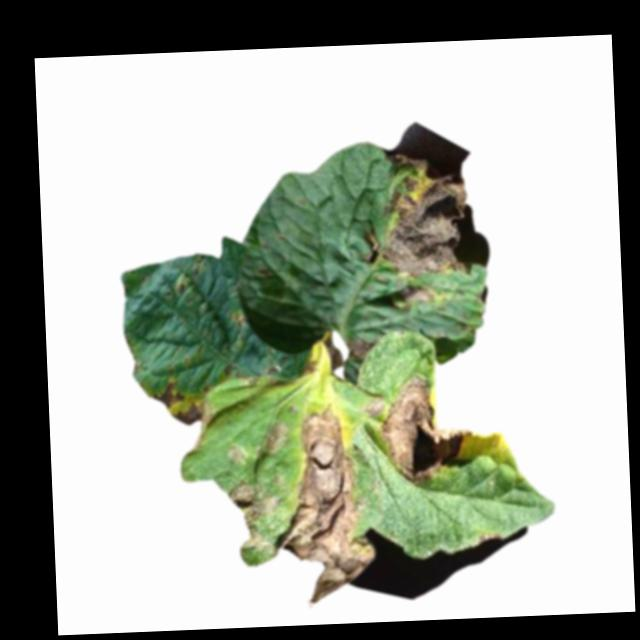Early_blight: (269, 404, 381, 606), (374, 147, 469, 278), (380, 374, 472, 486), (229, 478, 284, 552), (150, 380, 204, 425), (262, 420, 289, 455), (404, 283, 438, 305), (347, 335, 374, 361), (325, 334, 344, 369), (363, 397, 387, 415), (229, 443, 246, 460)
